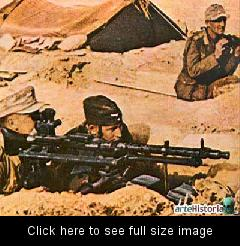rifle: (127, 142, 232, 185)
rifle in hand: (12, 135, 235, 198)
